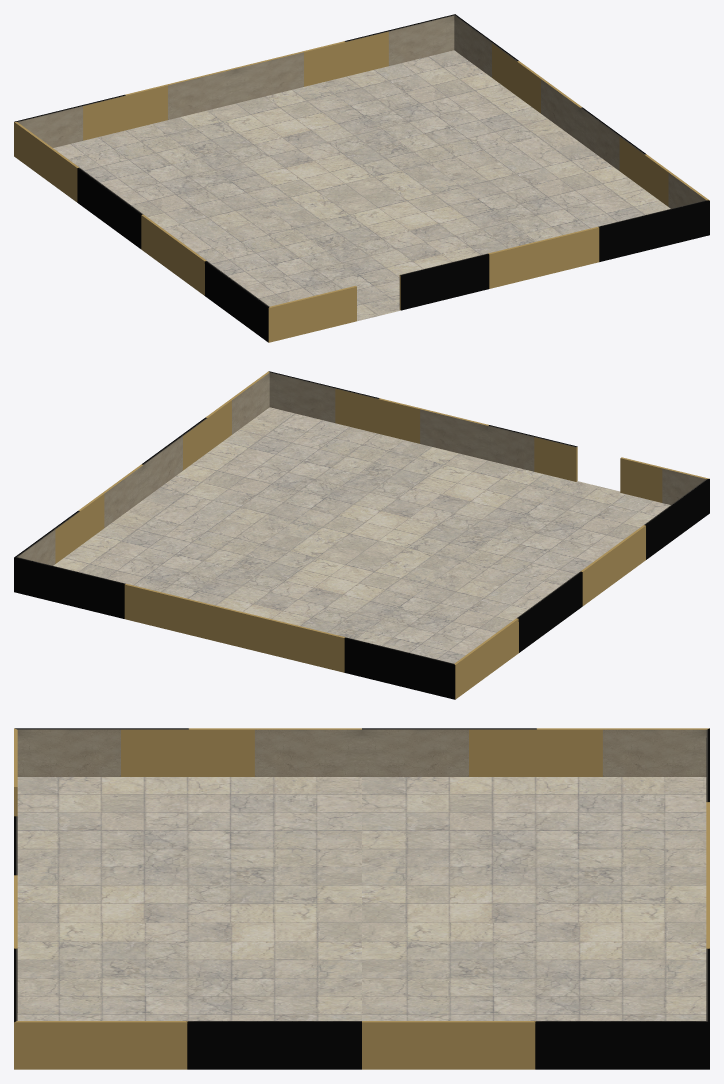
The model's file is Room_Custom03_Type02.fbx.
The picture shows the model from 3 angles, top to bottom: view 1: azimuth 30°, elevation 25°; view 2: azimuth 150°, elevation 25°; view 3: azimuth 270°, elevation 25°; orthographic projection. The views are drawn at different scales.
Parts seen in each view (by area): view 1: Room2x2_1Exit1; view 2: Room2x2_1Exit1; view 3: Room2x2_1Exit1.
Part boxes in pixels (x1=…): Room2x2_1Exit1: x1=14, y1=14, x2=709, y2=342; Room2x2_1Exit1: x1=14, y1=371, x2=709, y2=699; Room2x2_1Exit1: x1=14, y1=728, x2=709, y2=1069.
Bounding box in the file's own units: 20 × 1.5 × 20.
